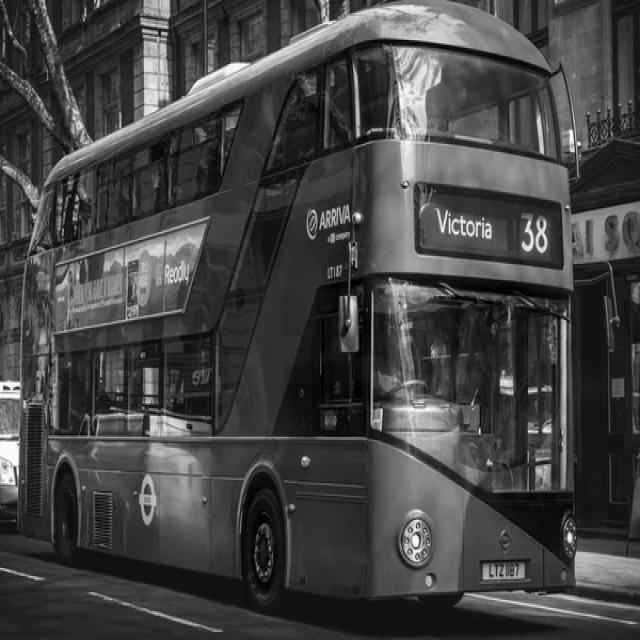Bus: (19, 2, 576, 610), (19, 7, 576, 610)
